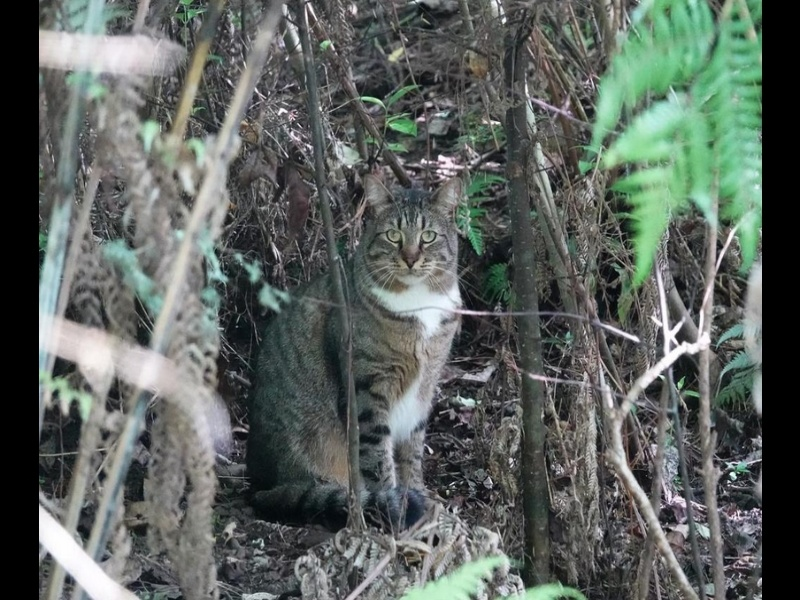cat: (246, 166, 477, 533)
